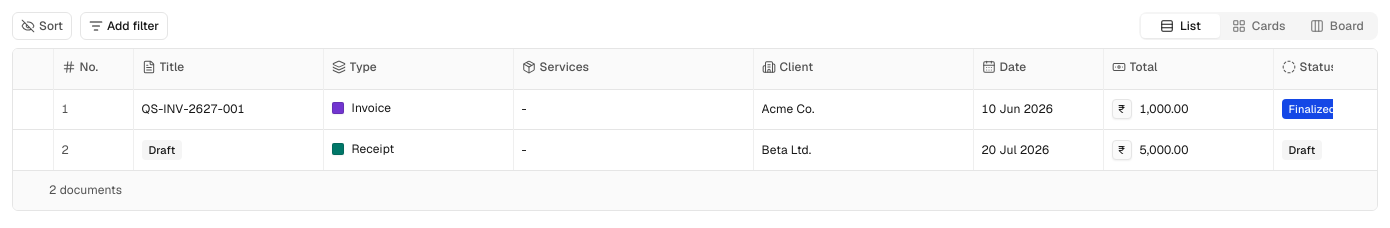
DocumentsBrowser › offers each field only once
The width and height of the screenshot is (1390, 228).
Click the button "Add filter".
click(124, 26)  # box [80,12,168,40]
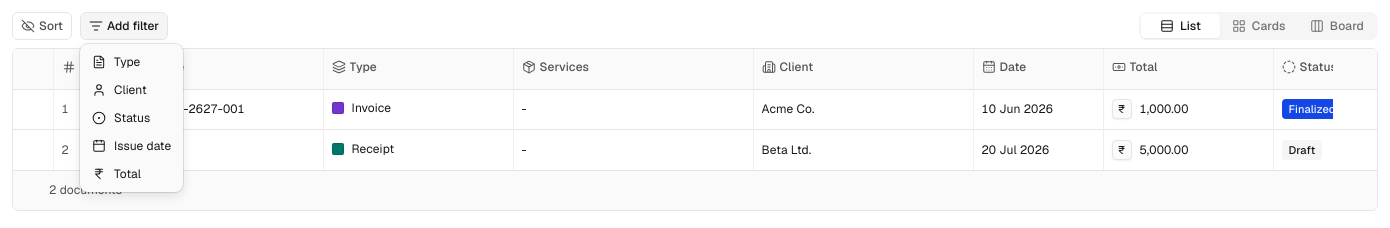
Click the menu item "Status".
click(121, 118)  # box [92,110,150,126]
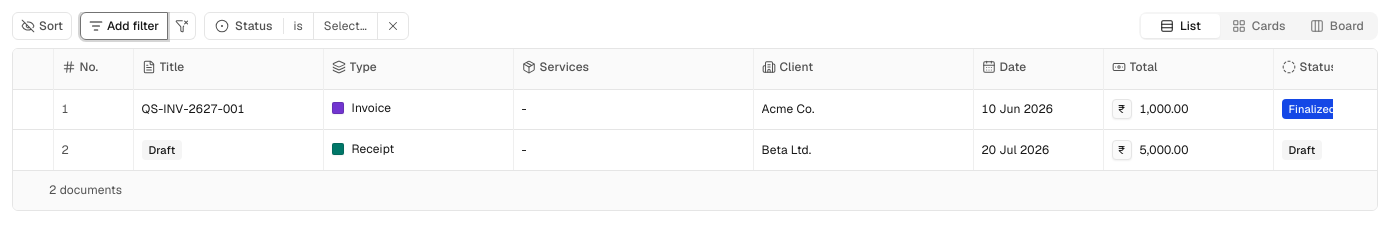
Click the button "Add filter".
click(124, 26)  # box [80,12,168,40]
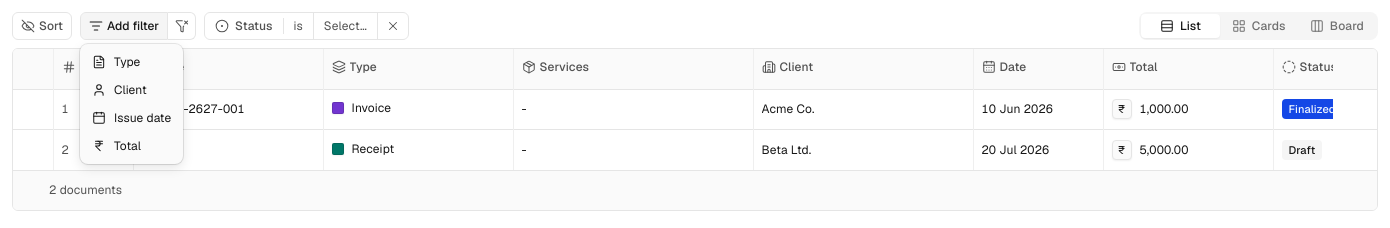
Expected: the menu item "Type" is shown, [92,54,140,70]
Press Escape
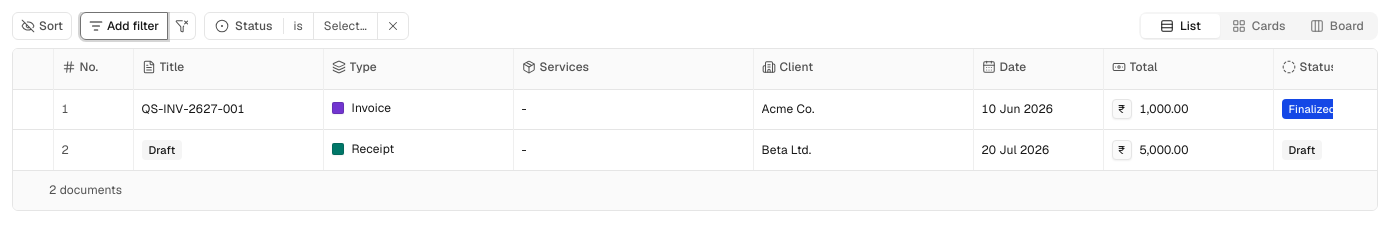
Click the button named "remove status filter".
click(392, 26)  # box [377,12,408,40]
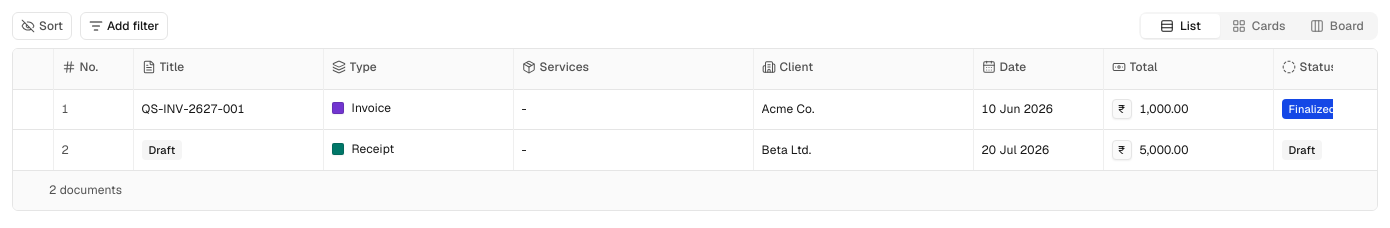
Click the button "Add filter".
click(124, 26)  # box [80,12,168,40]
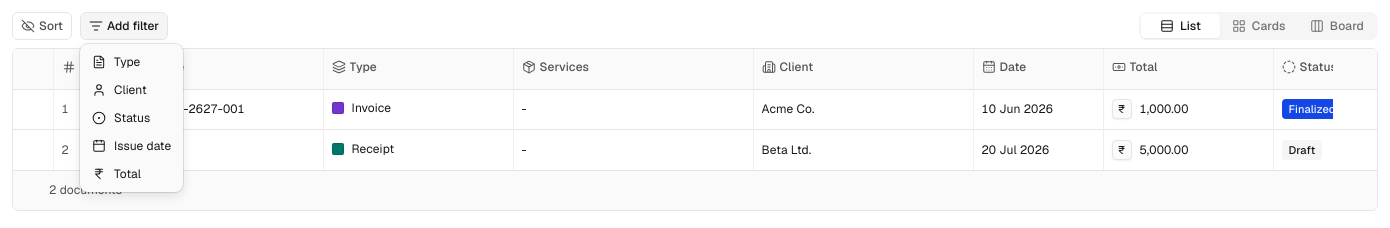
Expected: the menu item "Status" is shown, [92,110,150,126]
